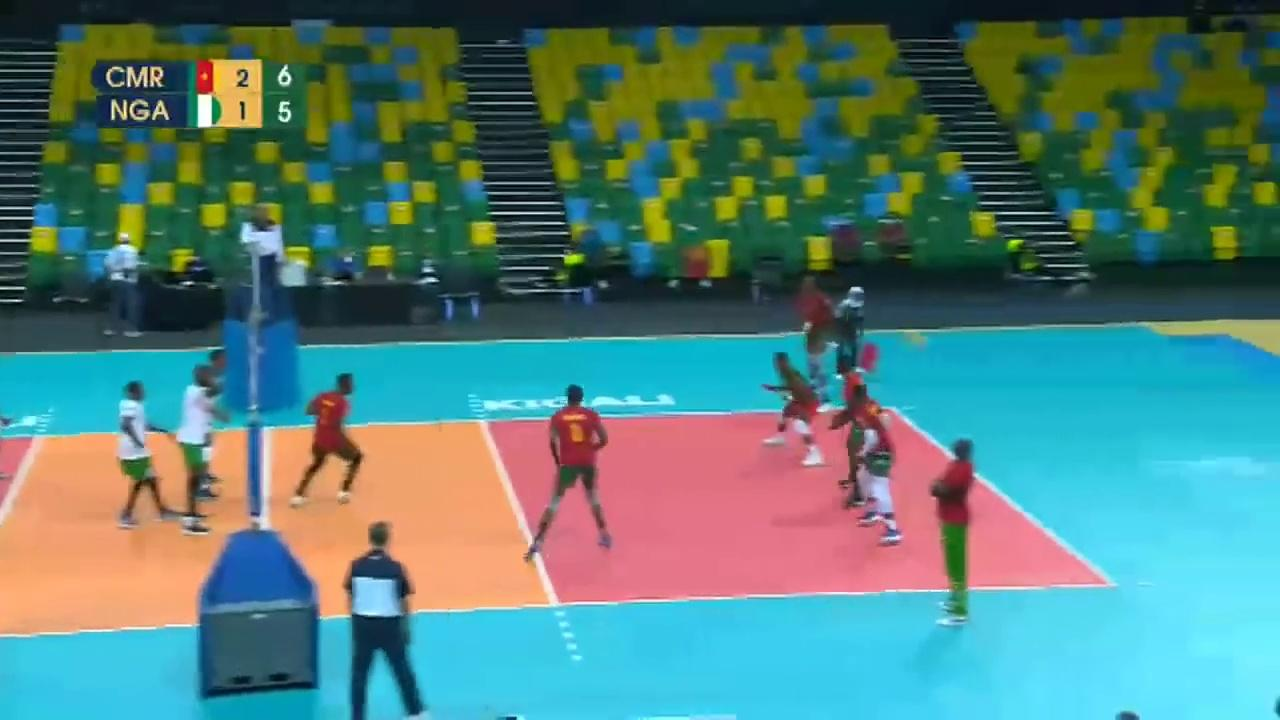player: (527, 390, 616, 555), (113, 380, 198, 528), (288, 377, 365, 504), (854, 382, 909, 555), (170, 362, 220, 536), (762, 353, 823, 465), (794, 276, 840, 412), (192, 343, 231, 503), (837, 356, 875, 506)
refree: (341, 526, 431, 717), (240, 204, 288, 304), (838, 281, 879, 375)
